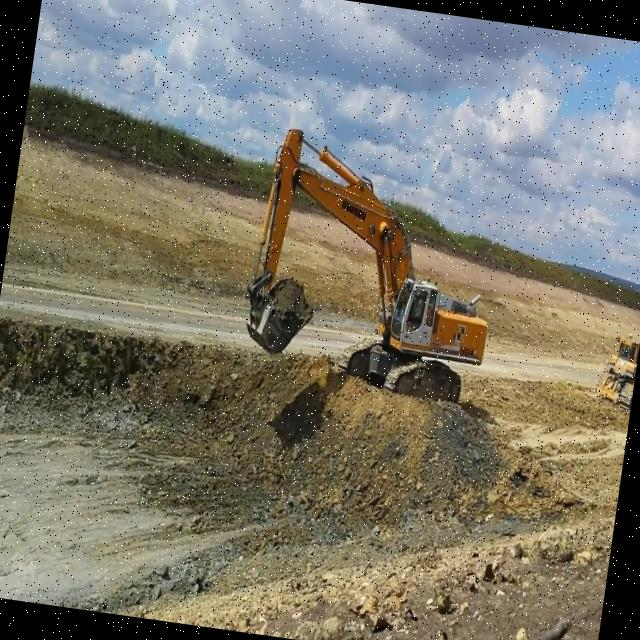Excavator: (234, 124, 512, 411)
Loader: (590, 329, 640, 411)
